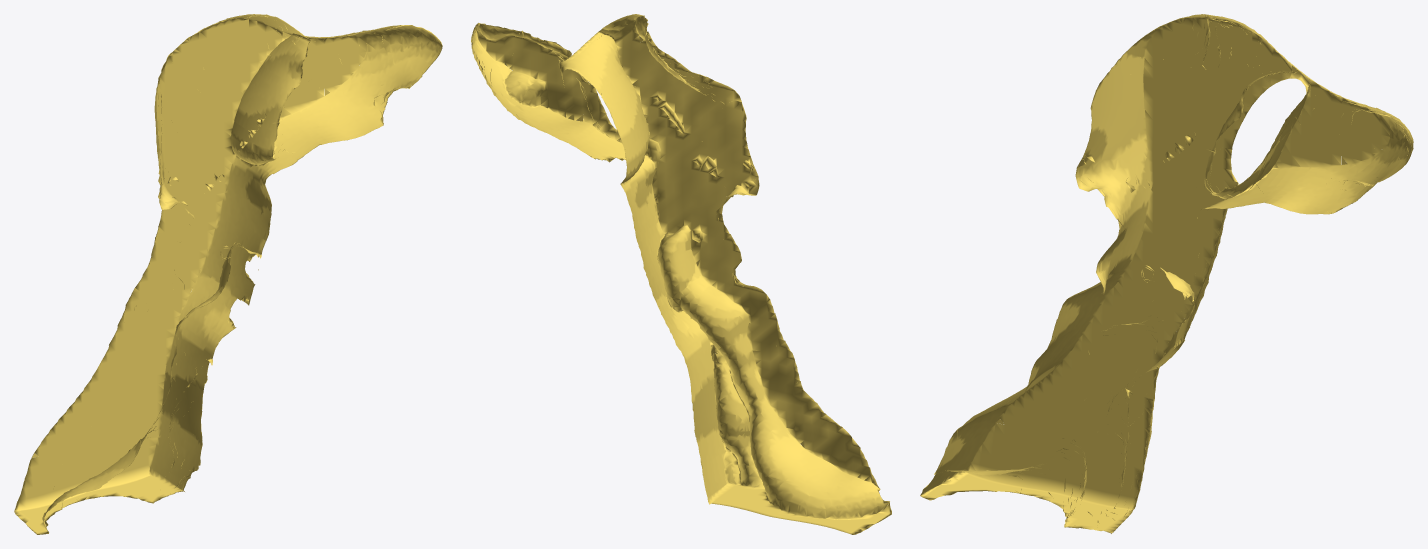
File: Zaj.gltf
The picture shows the model from 3 angles, left to right: view 1: azimuth 30°, elevation 25°; view 2: azimuth 150°, elevation 25°; view 3: azimuth 330°, elevation 25°; orthographic projection. The views are drawn at different scales.
Parts seen in each view (by area): view 1: Switch_Switch_osgPicked_gmeGeoEntityGeode_Geometry_0; view 2: Switch_Switch_osgPicked_gmeGeoEntityGeode_Geometry_0; view 3: Switch_Switch_osgPicked_gmeGeoEntityGeode_Geometry_0.
Boxes of the visible parts, left/top/right/bottom form: Switch_Switch_osgPicked_gmeGeoEntityGeode_Geometry_0: left=14, top=14, right=442, bottom=534; Switch_Switch_osgPicked_gmeGeoEntityGeode_Geometry_0: left=471, top=14, right=891, bottom=534; Switch_Switch_osgPicked_gmeGeoEntityGeode_Geometry_0: left=920, top=14, right=1413, bottom=533.
Size of what is drawn, in the model's own units: 24372 by 25584 by 4162.
